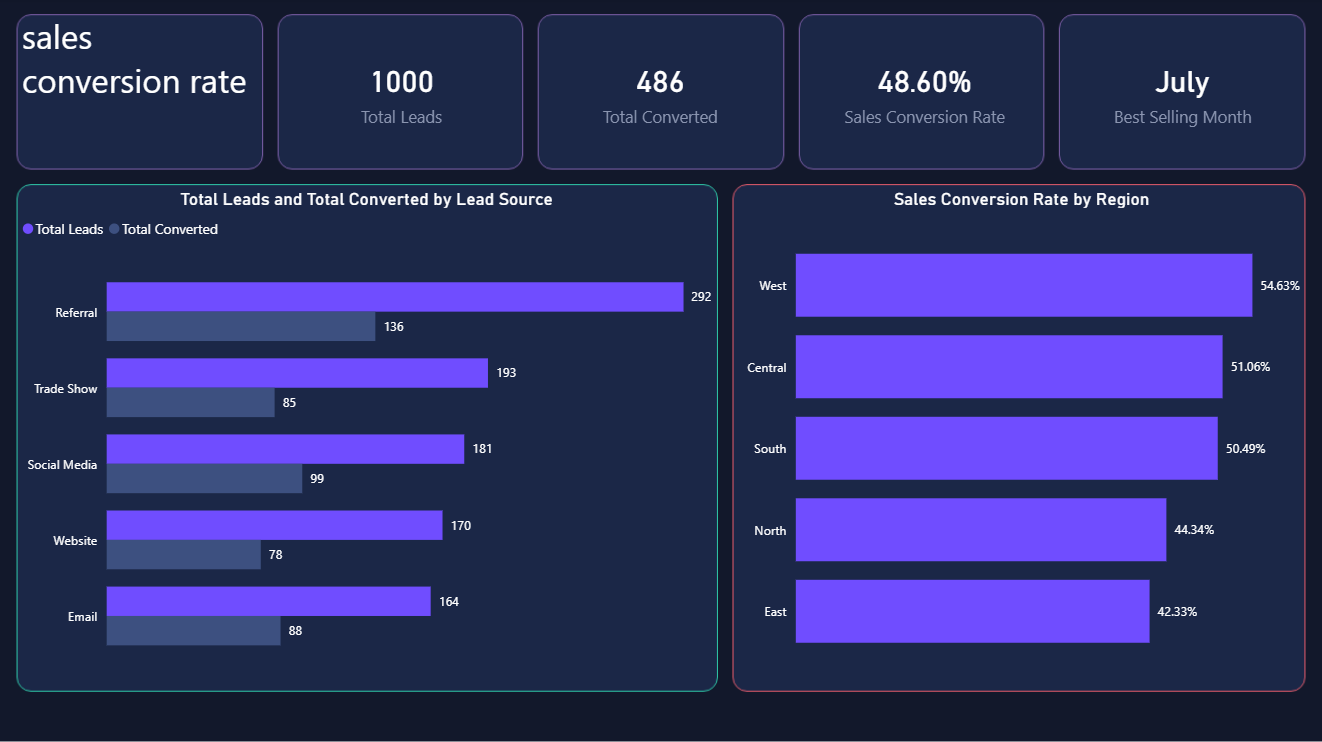

This screenshot's page, from the dashboard's own definition file:
{"tool":"powerbi","page":{"name":"Page 5","canvas":[1280,720],"ordinal":0},"visuals":[{"type":"clusteredBarChart","fields":{"Category":["Data.Lead Source"],"Y":["messure.Total Leads","messure.Total Converted"]},"box":[18.1,183.4,675.6,477.8],"z":0},{"type":"card","fields":{"Values":["messure.Total Leads"]},"box":[276.3,20.5,226.8,138.7],"z":1000},{"type":"card","fields":{"Values":["messure.Sales Conversion Rate"]},"box":[776.9,20.5,235.3,138.7],"z":2000},{"type":"card","fields":{"Values":["messure.Total Converted"]},"box":[532,20.5,214.7,138.7],"z":3000},{"type":"barChart","fields":{"Category":["Data.Region"],"Y":["messure.Sales Conversion Rate"]},"box":[714.2,183.4,547.7,477.8],"z":4000},{"type":"card","fields":{"Values":["messure.Best Selling Month"]},"box":[1036.3,20.5,214.7,138.7],"z":5000},{"type":"textbox","box":[18.1,9.7,236.5,149.6],"z":5001}]}

Visuals, with their boxes in screenshot pixels (x1, y1, x2, y2), scaled from the page's 1280x720 canvas onto the 1322x742 screenshot:
clusteredBarChart - Data.Lead Source x messure.Total Leads: (19,189,716,681)
card - messure.Total Leads: (285,21,520,164)
card - messure.Sales Conversion Rate: (802,21,1045,164)
card - messure.Total Converted: (549,21,771,164)
barChart - Data.Region x messure.Sales Conversion Rate: (738,189,1303,681)
card - messure.Best Selling Month: (1070,21,1292,164)
textbox: (19,10,263,164)
